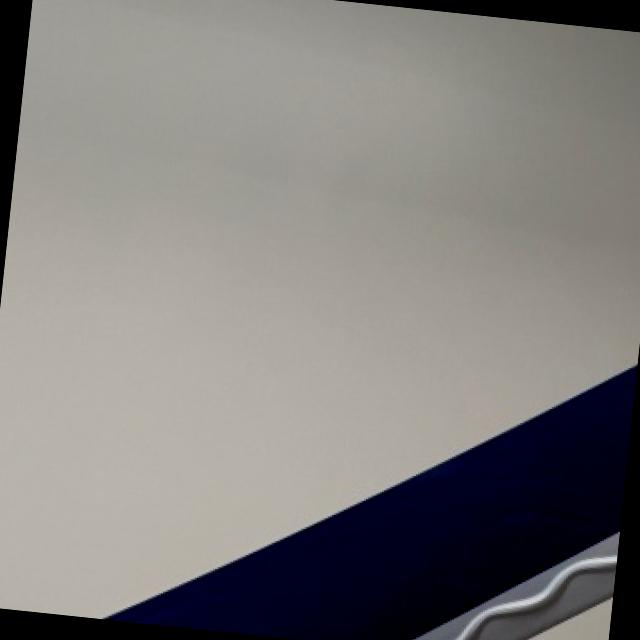healthy: (111, 364, 637, 640)
